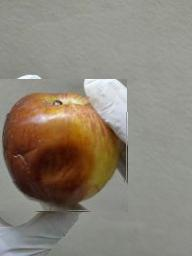Apple Rotten: (1, 80, 129, 213)
